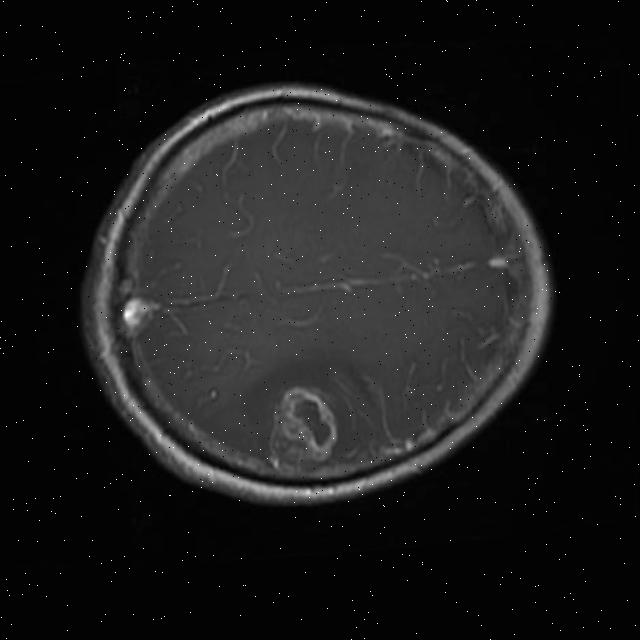Glioma: (271, 382, 338, 465)
